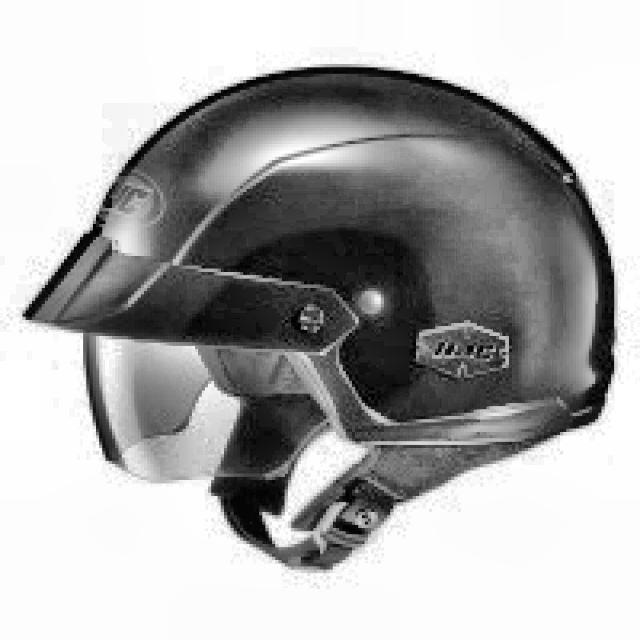Helmet: (22, 43, 634, 594)
